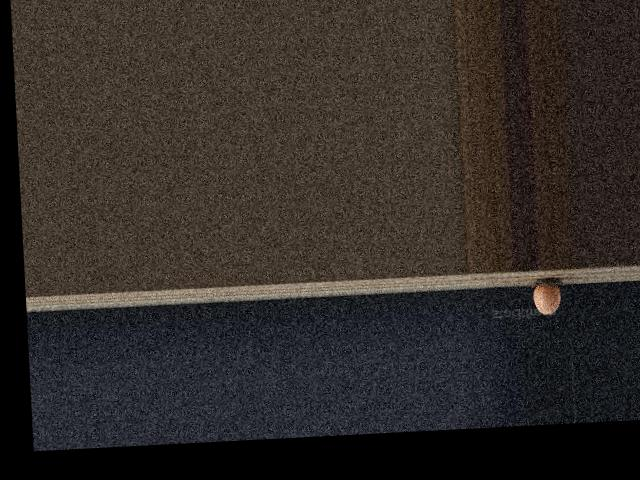egg: (533, 283, 562, 314)
